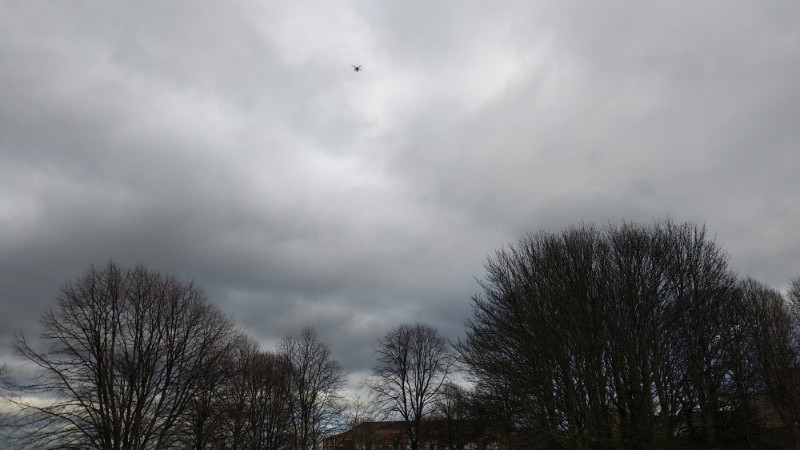drone: (351, 64, 363, 72)
